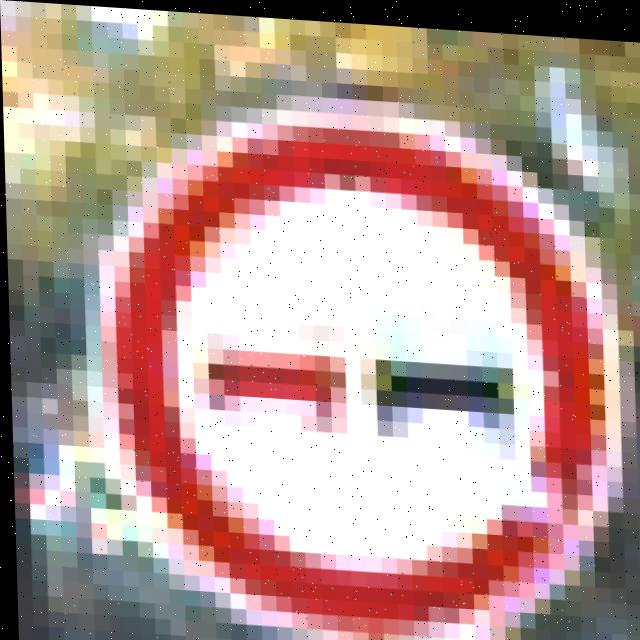no_overtaking: (119, 110, 626, 640)
